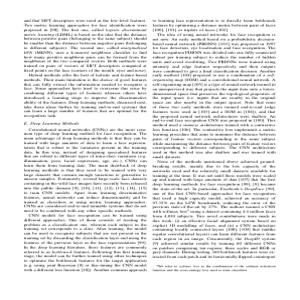text: (151, 16, 282, 277), (20, 16, 149, 275)
